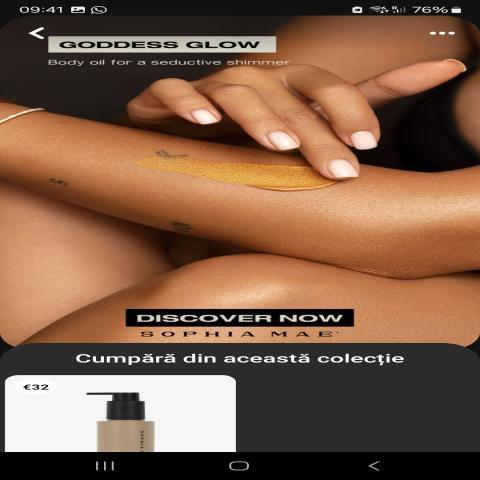Hands: (114, 43, 475, 208)
